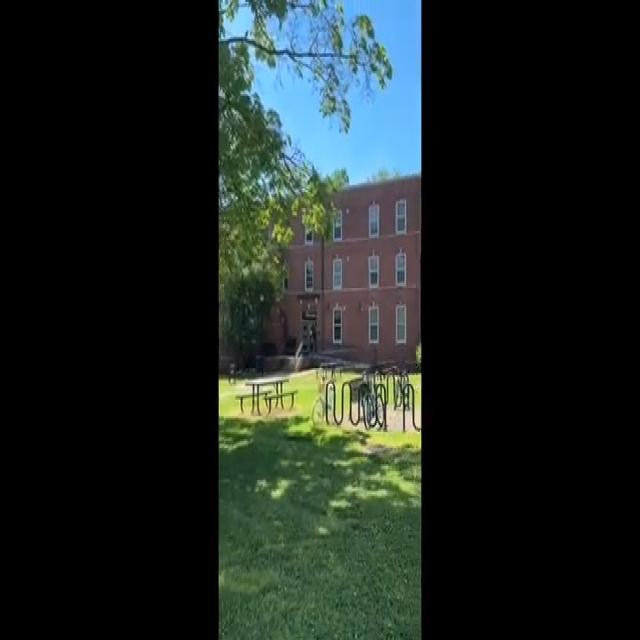drone: (271, 318, 285, 334)
